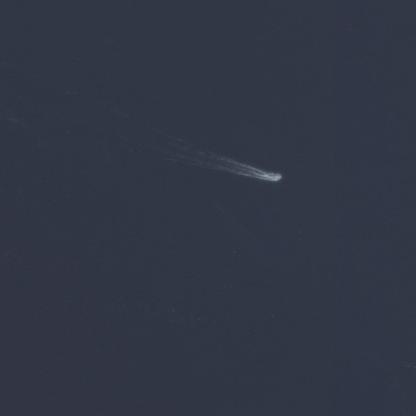ship: (262, 168, 284, 184)
